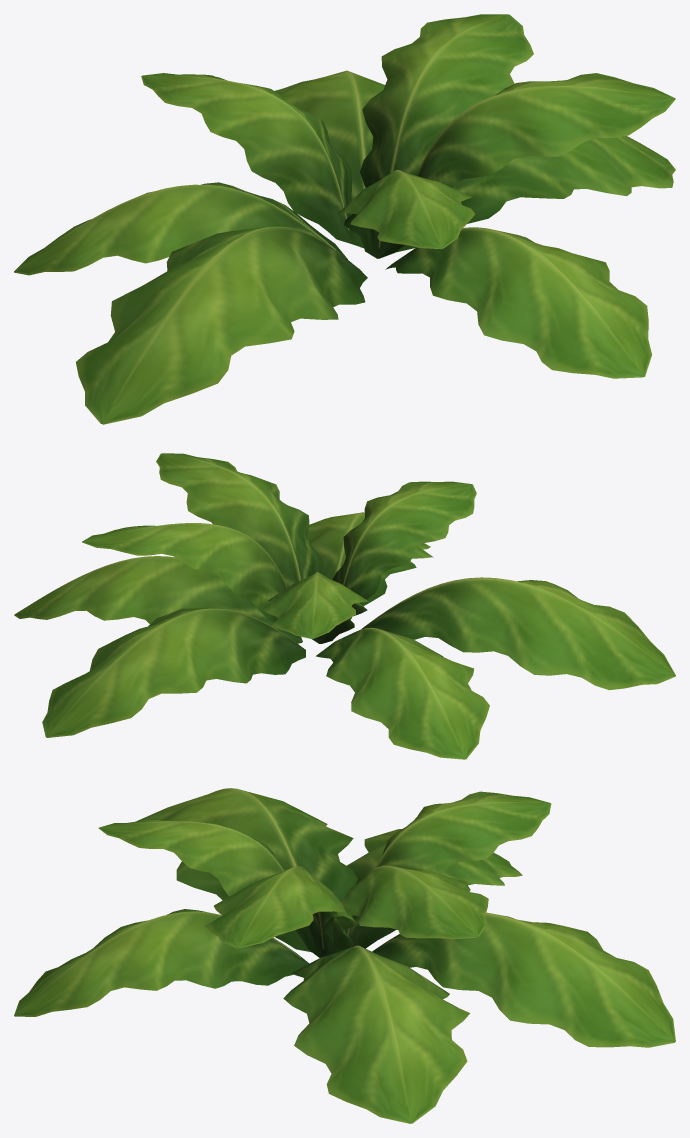
Rendered from NP_Daisy_Young.fbx.
The picture shows the model from 3 angles, top to bottom: view 1: azimuth 30°, elevation 25°; view 2: azimuth 150°, elevation 25°; view 3: azimuth 270°, elevation 25°; orthographic projection. The views are drawn at different scales.
Visible parts, largest first — view 1: NP_Daisy_Young.001; view 2: NP_Daisy_Young.001; view 3: NP_Daisy_Young.001.
Part boxes in pixels (<box>): NP_Daisy_Young.001: <box>14,14,675,424</box>; NP_Daisy_Young.001: <box>14,453,675,759</box>; NP_Daisy_Young.001: <box>14,788,675,1123</box>.
Size of the model in its own units: 59.61 by 14.34 by 54.35.
